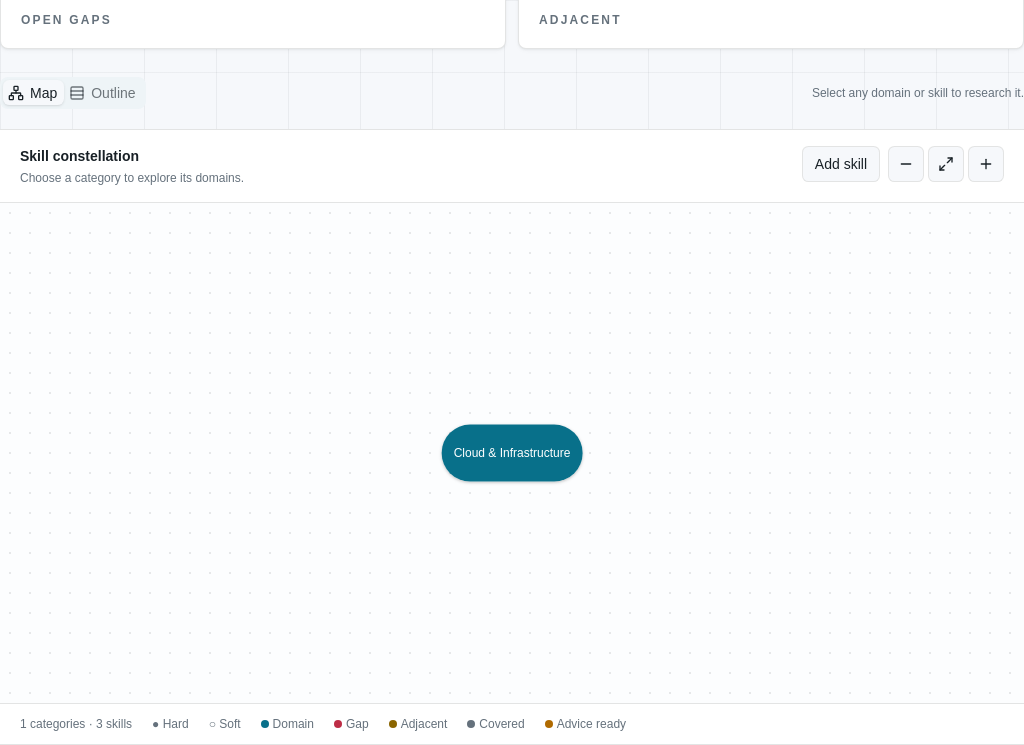
Test case: MatchGapContainer › focuses one domain and hides unrelated branches until returning to the overview
The image size is (1024, 745).
(page scrolled)
Click the button with aria-label "Explore Cloud & Infrastructure".
click(512, 453)  # box [441, 423, 583, 482]
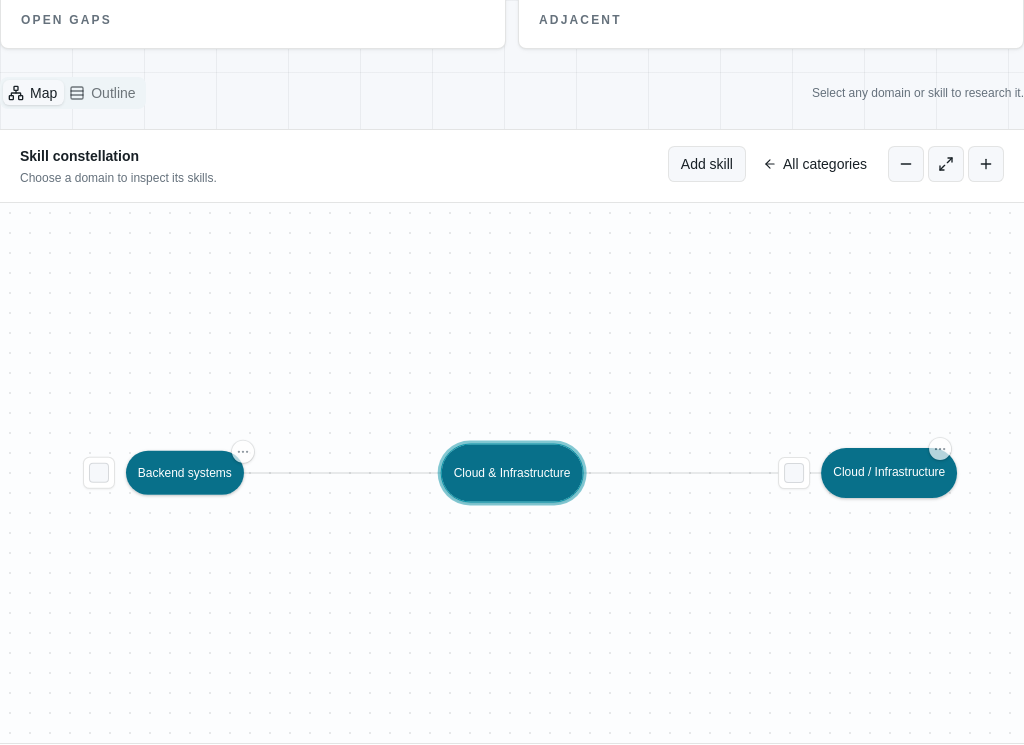
Click the button with aria-label "Explore Cloud / Infrastructure".
click(889, 473)  # box [820, 447, 958, 499]
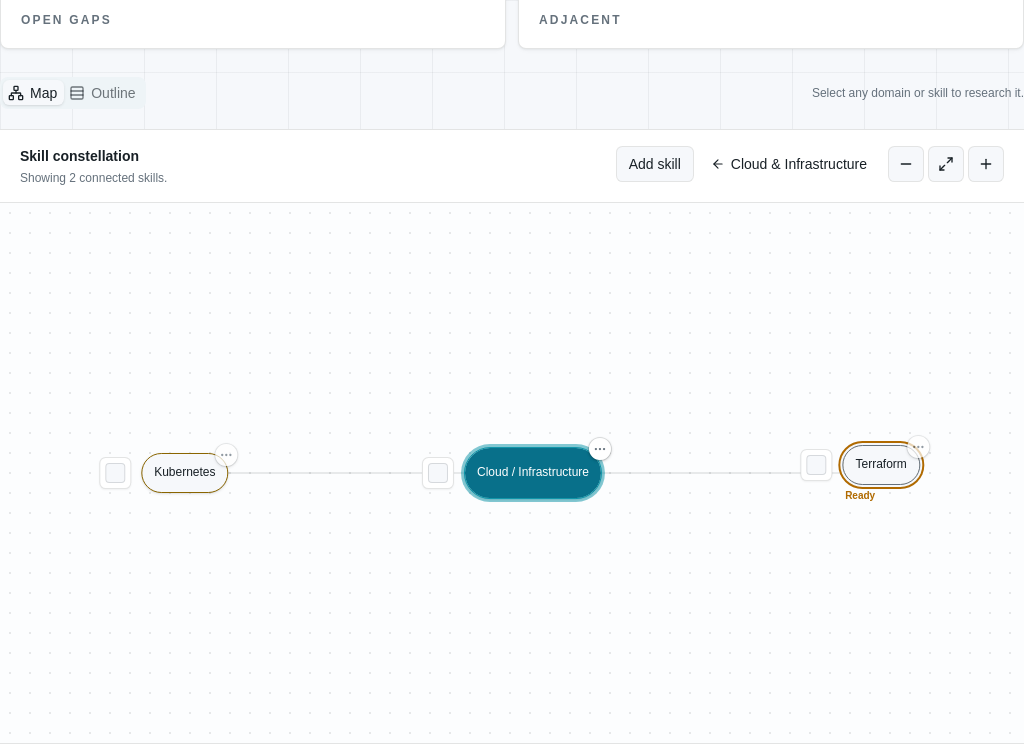
Expected: the text "Showing 2 connected skills." is shown, [20, 170, 167, 186]
Click the button "Cloud & Infrastructure".
click(791, 164)  # box [702, 146, 880, 182]
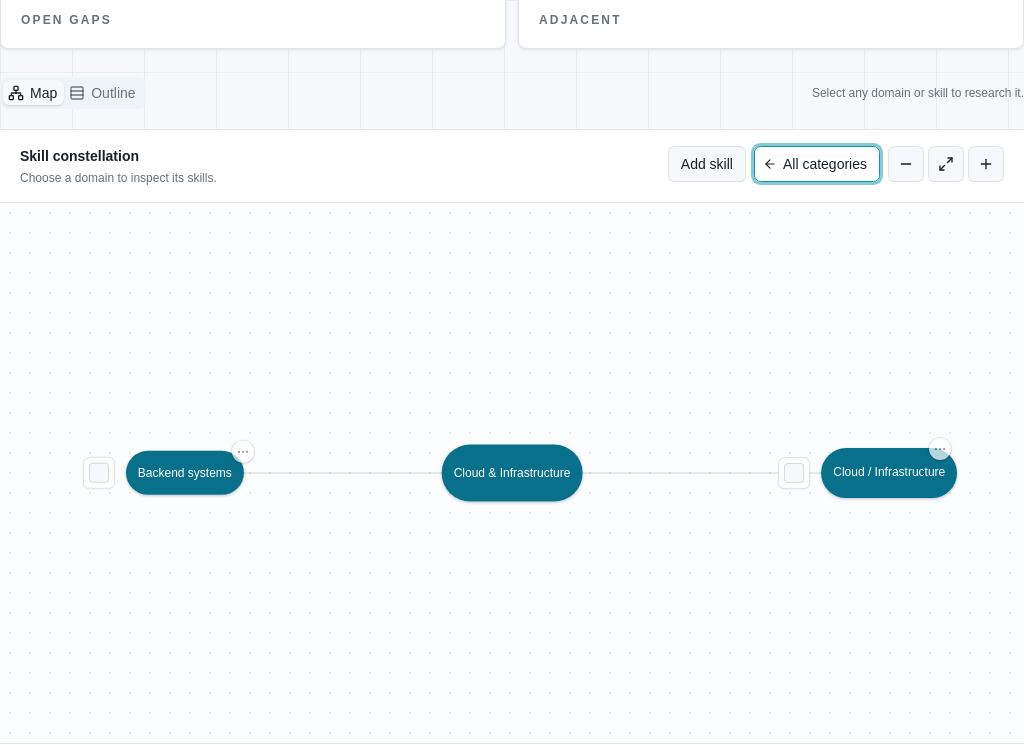
Expected: the button with aria-label "Explore Backend systems" is shown, [125, 450, 245, 496]
